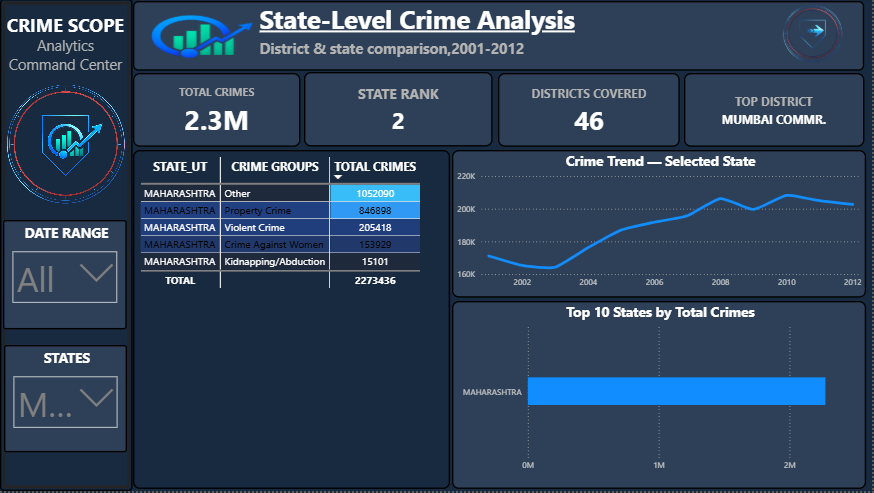

This screenshot's page, from the dashboard's own definition file:
{"tool":"powerbi","page":{"name":"State Analysis","canvas":[1280,720],"ordinal":1},"visuals":[{"type":"textbox","box":[197.6,2.9,1069.8,102.4],"z":0},{"type":"cardVisual","fields":{"Data":["ALL Measures.Total CR"]},"box":[197,108,245,108],"z":1000},{"type":"shape","box":[2.9,0,194.4,720],"z":2000},{"type":"textbox","box":[2.9,7.2,191.5,110.9],"z":3000},{"type":"cardVisual","fields":{"Data":["ALL Measures.State Rank"]},"box":[447.8,106.6,276.5,109.4],"z":4000},{"type":"cardVisual","fields":{"Data":["ALL Measures.Total Districts"]},"box":[731.5,107.7,266.2,108.5],"z":5000},{"type":"cardVisual","fields":{"Data":["ALL Measures.Top District"]},"box":[1003.8,107.7,263.8,108.5],"z":6000},{"type":"slicer","title":"DATE RANGE","fields":{"Values":["Dim_Year.Year"]},"box":[7.1,322.9,181.4,160],"z":7000},{"type":"slicer","title":"STATES","fields":{"Values":["Dim_State.STATE_UT"]},"box":[8.6,505.7,180,157.1],"z":8000},{"type":"tableEx","fields":{"Values":["Fact_Crimes.STATE_UT","Fact_Crimes.CrimeGroups","ALL Measures.Total CR"]},"box":[197.6,221,463.9,496.1],"z":9000},{"type":"lineChart","title":"Crime Trend — Selected State","fields":{"Category":["Dim_Year.Year"],"Y":["ALL Measures.Total CR"]},"box":[663.8,220.3,606.2,216],"z":10000},{"type":"clusteredBarChart","title":"Top 10 States by Total Crimes","fields":{"Category":["Dim_State.STATE_UT"],"Y":["ALL Measures.Total CR"]},"box":[664.4,442,605.9,275.1],"z":11000},{"type":"image","box":[0,108.8,197.5,213.8],"z":12000},{"type":"image","box":[197.6,2.9,199,105.4],"z":13000},{"type":"image","box":[1113.7,0,156.6,105.4],"z":14000}]}

Visuals, with their boxes in screenshot pixels (x1, y1, x2, y2), scaled from the page's 1280x720 canvas onto the 874x493 screenshot:
textbox: detection(135, 2, 865, 72)
cardVisual - ALL Measures.Total CR: detection(135, 74, 302, 148)
shape: detection(2, 0, 135, 492)
textbox: detection(2, 5, 133, 81)
cardVisual - ALL Measures.State Rank: detection(306, 73, 495, 148)
cardVisual - ALL Measures.Total Districts: detection(499, 74, 681, 148)
cardVisual - ALL Measures.Top District: detection(685, 74, 866, 148)
"DATE RANGE" slicer: detection(5, 221, 129, 331)
"STATES" slicer: detection(6, 346, 129, 454)
tableEx - Fact_Crimes.STATE_UT x Fact_Crimes.CrimeGroups: detection(135, 151, 452, 491)
"Crime Trend — Selected State" lineChart: detection(453, 151, 867, 299)
"Top 10 States by Total Crimes" clusteredBarChart: detection(454, 303, 867, 491)
image: detection(0, 74, 135, 221)
image: detection(135, 2, 271, 74)
image: detection(760, 0, 867, 72)
